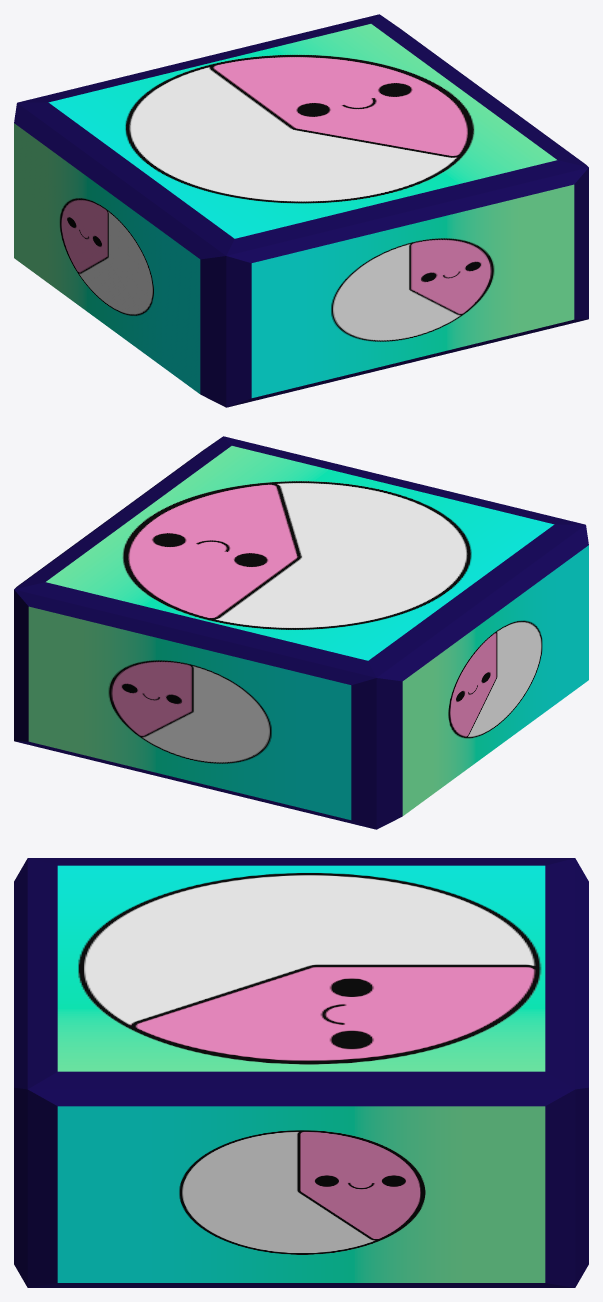
File: Fracciones dos quintos.fbx
3 views of the same model, one above another, from view 1: azimuth 30°, elevation 25°; view 2: azimuth 150°, elevation 25°; view 3: azimuth 270°, elevation 25° (orthographic). The views are drawn at different scales.
Visible parts, largest first — view 1: 2/5; view 2: 2/5; view 3: 2/5.
Boxes of the visible parts, bbox=[...] form: 2/5: bbox=[14, 14, 588, 407]; 2/5: bbox=[14, 436, 588, 829]; 2/5: bbox=[14, 858, 588, 1287].
Bounding box in the file's own units: 213 × 84 × 210.
2 materials, 1 textured.
